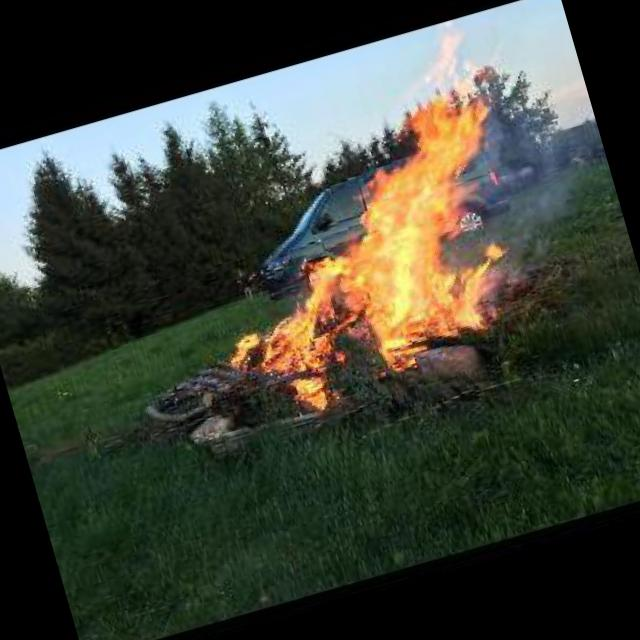fire: (163, 14, 568, 418)
smoke: (456, 92, 620, 288)
